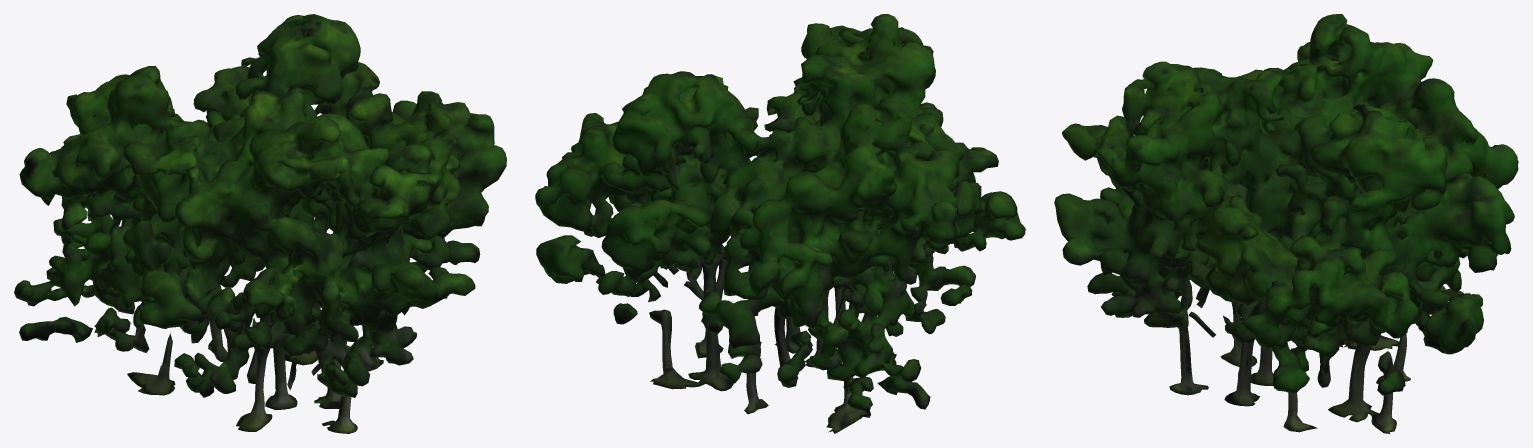
The model's file is tree.glb.
The picture shows the model from 3 angles, left to right: view 1: azimuth 30°, elevation 25°; view 2: azimuth 150°, elevation 25°; view 3: azimuth 270°, elevation 25°; orthographic projection. The views are drawn at different scales.
Bounding box in the file's own units: 1.97 × 1.45 × 1.92.
1 material, 1 textured.
